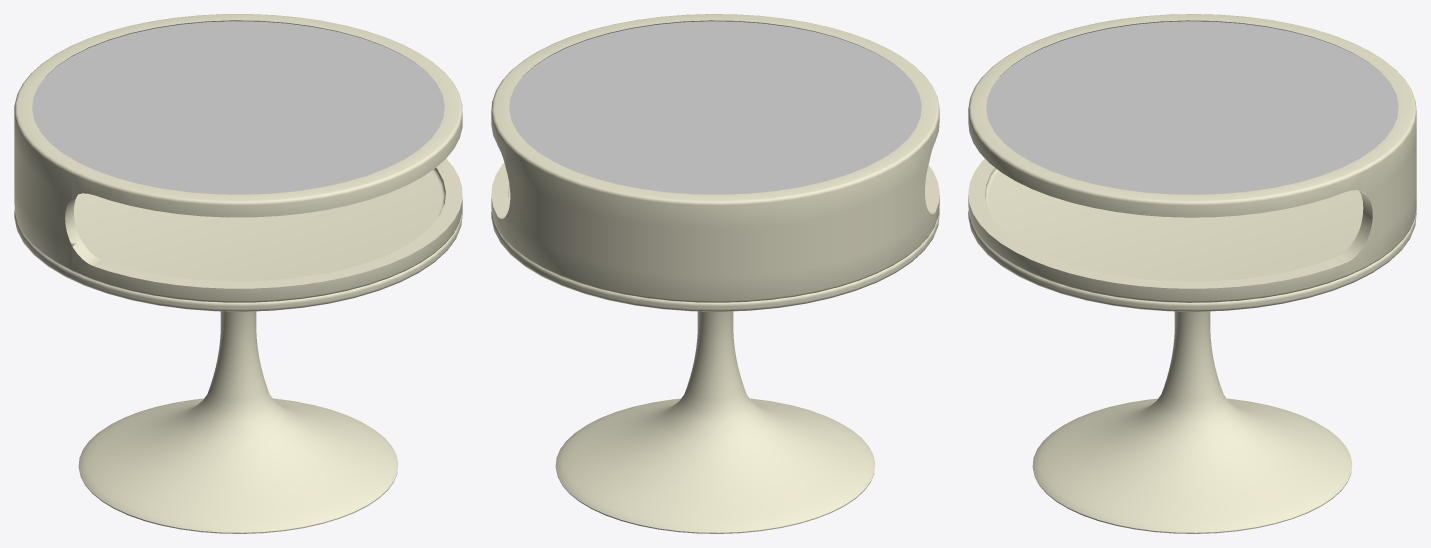
The model's file is SideTable.fbx.
The picture shows the model from 3 angles, left to right: view 1: azimuth 30°, elevation 25°; view 2: azimuth 150°, elevation 25°; view 3: azimuth 270°, elevation 25°; orthographic projection.
Parts seen in each view (by area): view 1: Body, GlassTop; view 2: Body, GlassTop; view 3: Body, GlassTop.
Boxes of the visible parts, left/top/right/bottom form: Body: left=14, top=14, right=462, bottom=533; GlassTop: left=32, top=21, right=444, bottom=194; Body: left=491, top=14, right=939, bottom=533; GlassTop: left=509, top=21, right=921, bottom=194; Body: left=968, top=14, right=1416, bottom=533; GlassTop: left=986, top=21, right=1398, bottom=194.
Bounding box in the file's own units: 5.03 × 4.46 × 5.03.
